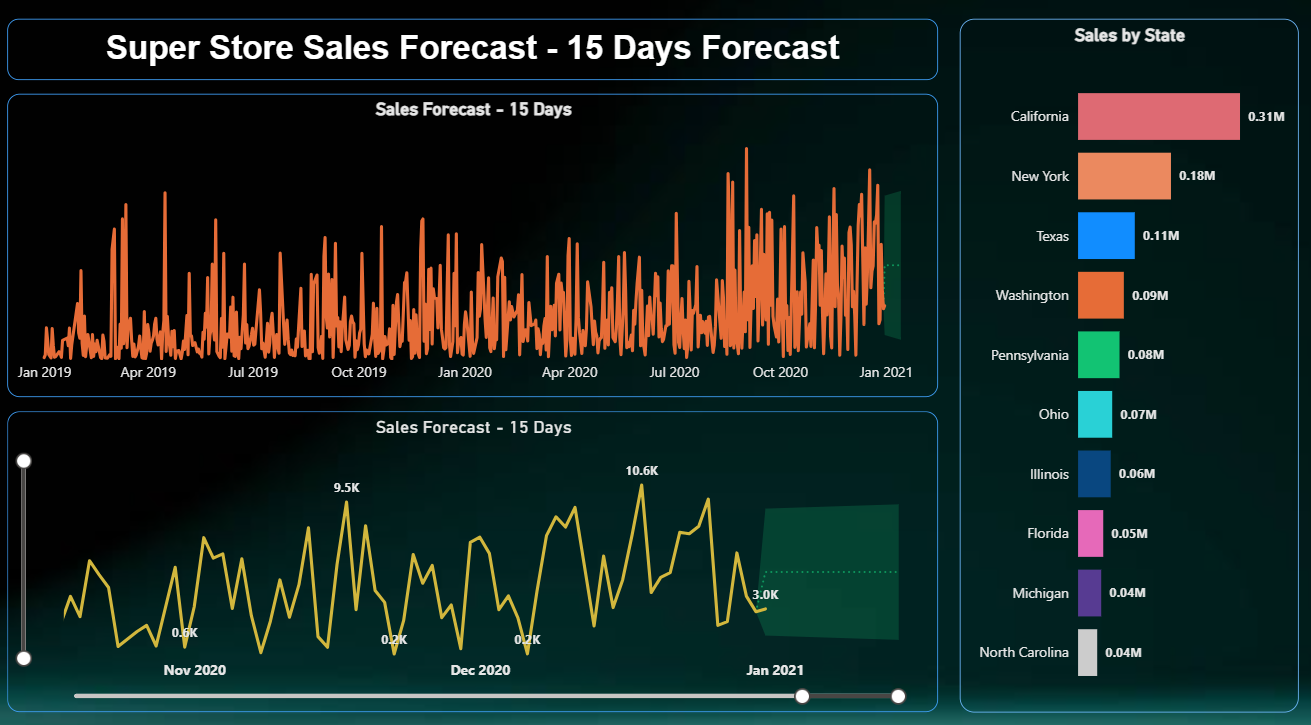

This screenshot's page, from the dashboard's own definition file:
{"tool":"powerbi","page":{"name":"Page 2","canvas":[1280,720],"ordinal":1},"visuals":[{"type":"lineChart","title":"Sales Forecast - 15 Days","fields":{"Y":["Sum(SuperStore_Sales_Dataset.Sales)"],"Category":["SuperStore_Sales_Dataset.Order Date"]},"box":[15.7,100.1,898.8,293.2],"z":0},{"type":"lineChart","title":"Sales Forecast - 15 Days","fields":{"Y":["Sum(SuperStore_Sales_Dataset.Sales)"],"Category":["SuperStore_Sales_Dataset.Order Date"]},"box":[15.7,406.6,898.8,290.8],"z":1000},{"type":"barChart","title":"Sales by State","fields":{"Category":["SuperStore_Sales_Dataset.State"],"Y":["Sum(SuperStore_Sales_Dataset.Sales)"]},"box":[935,27.7,326.9,669.6],"z":2000},{"type":"textbox","box":[15.7,27.7,898.8,59.1],"z":3000}]}

Visuals, with their boxes in screenshot pixels (x1, y1, x2, y2), scaled from the page's 1280x720 canvas onto the 1311x725 screenshot:
"Sales Forecast - 15 Days" lineChart: 16:101:937:396
"Sales Forecast - 15 Days" lineChart: 16:409:937:702
"Sales by State" barChart: 958:28:1292:702
textbox: 16:28:937:87
